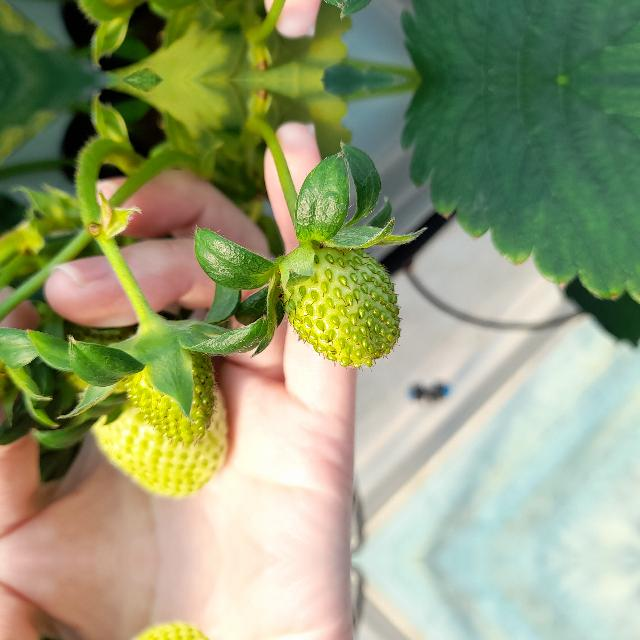Health_25: (280, 248, 402, 372), (122, 352, 218, 450)
